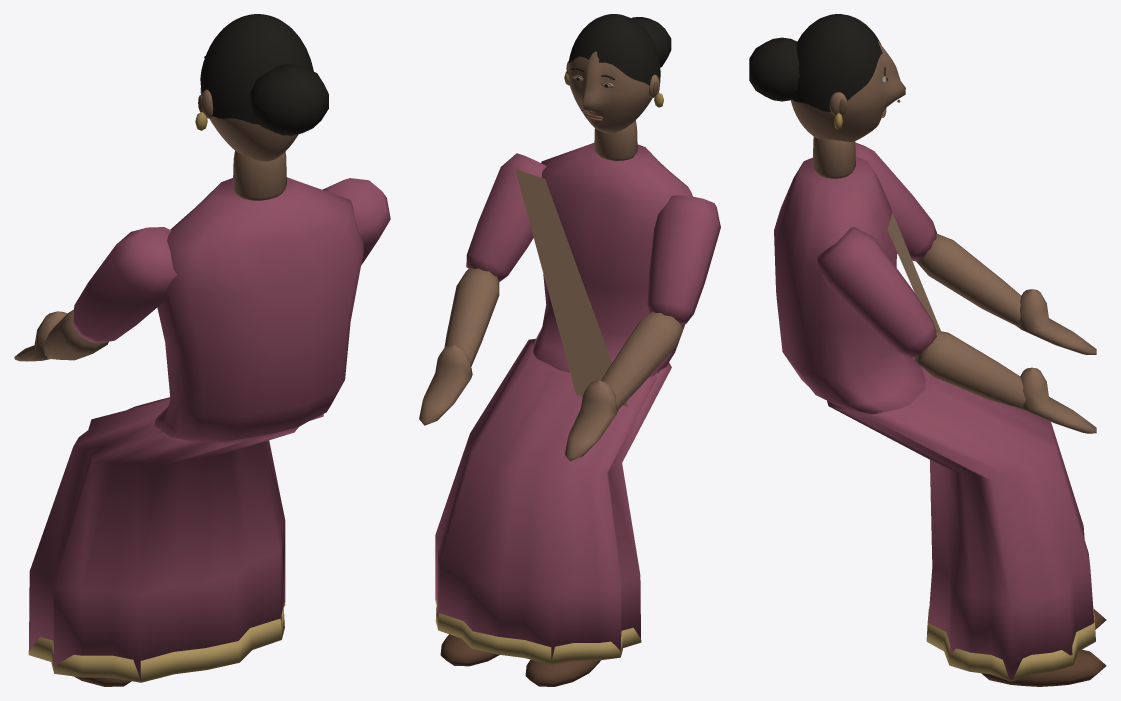
File: passenger_seated_sari.glb
3 renders of one model, left to right at view 1: azimuth 30°, elevation 25°; view 2: azimuth 150°, elevation 25°; view 3: azimuth 270°, elevation 25°, orthographic. The views are drawn at different scales.
Parts seen in each view (by area): view 1: passenger_seated_sari; view 2: passenger_seated_sari; view 3: passenger_seated_sari.
Boxes of the visible parts, x1=… form: passenger_seated_sari: x1=14, y1=14, x2=390, y2=686; passenger_seated_sari: x1=419, y1=14, x2=720, y2=686; passenger_seated_sari: x1=749, y1=14, x2=1106, y2=686.
Bounding box in the file's own units: 0.5566 × 1.37 × 0.693.
